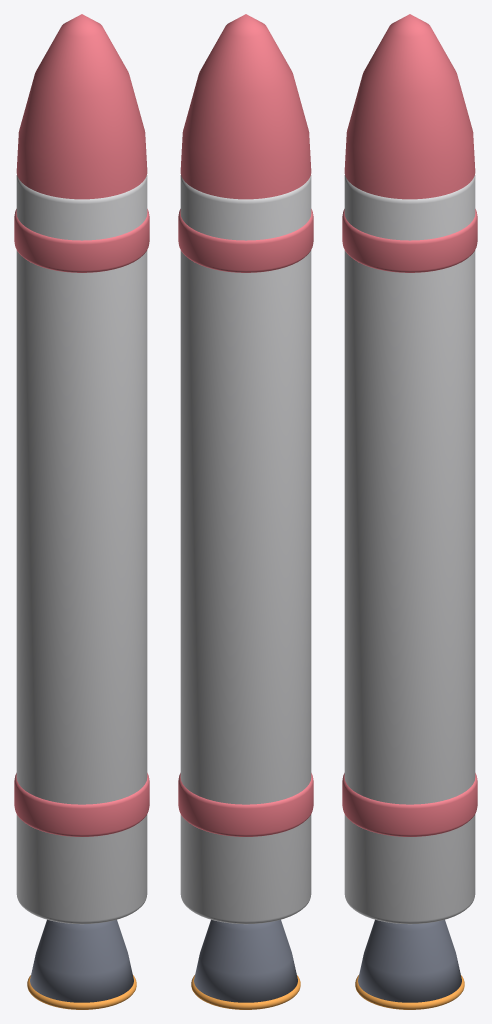
The model's file is booster.glb.
3 renders of one model, left to right at view 1: azimuth 30°, elevation 25°; view 2: azimuth 150°, elevation 25°; view 3: azimuth 330°, elevation 25°, orthographic.
Parts seen in each view (by area): view 1: Booster; view 2: Booster; view 3: Booster.
Part boxes in pixels (box(x1,y1,x2,y2)): Booster: box(14, 14, 149, 1009); Booster: box(178, 14, 313, 1009); Booster: box(342, 14, 477, 1009).
Bounding box in the file's own units: 1.28 × 10.19 × 1.28.
